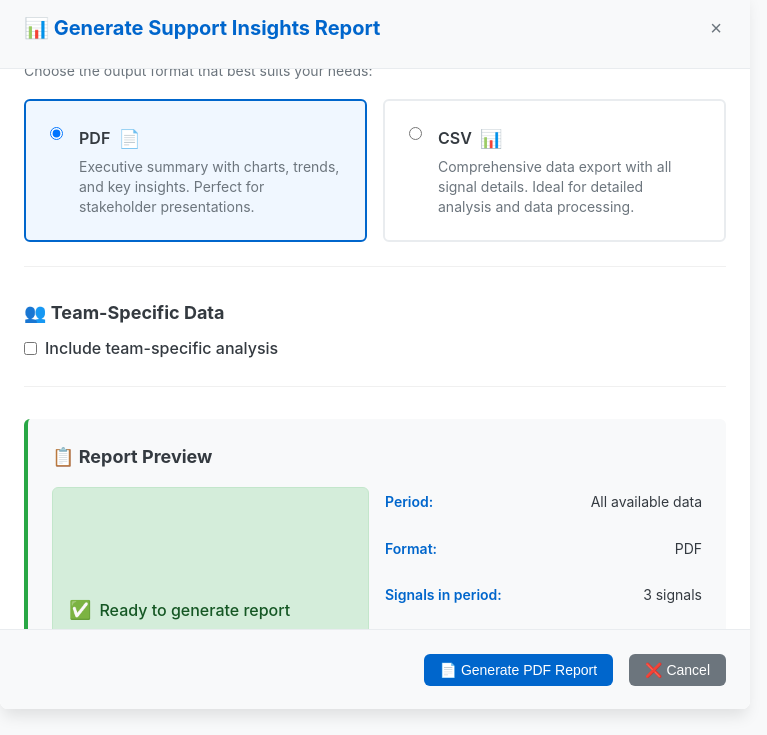
Scenario: ReportGenerationModal › Preview Functionality › shows team information in preview when team is selected
(page scrolled)
# Enable team data
Click the checkbox labelled "Include team-specific analysis" at (30, 349), box [24, 342, 37, 355]
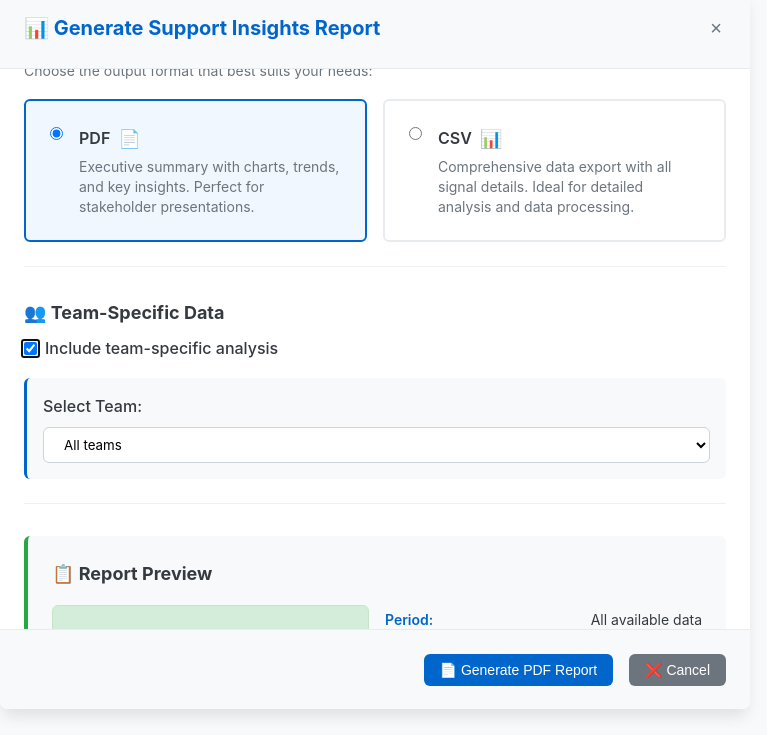
# Select a team using the label
Select "Team Bolt" in the dropdown labelled "Select Team:" at (376, 445), box [43, 427, 710, 463]
(page scrolled)
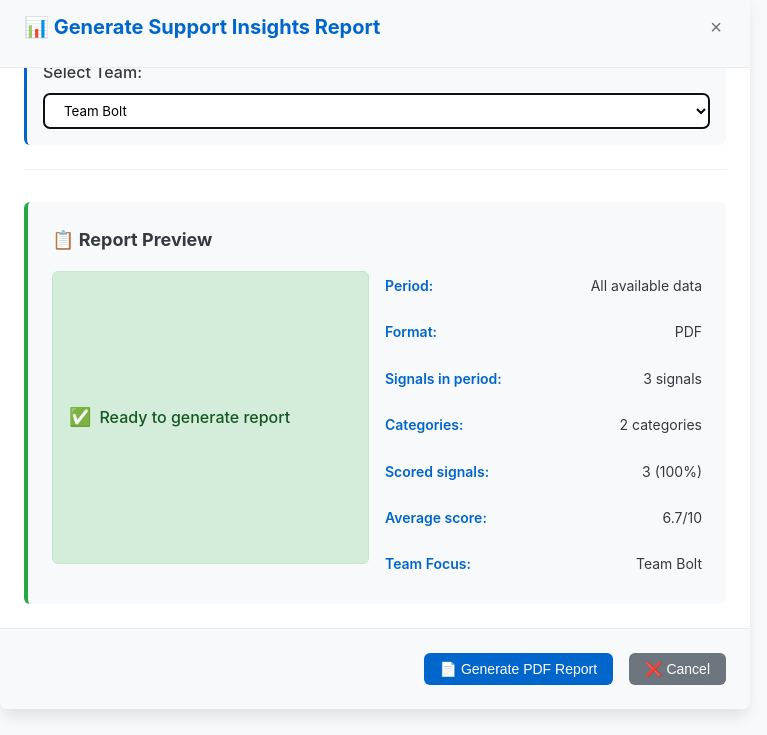
Check: the text "Team Focus:" is shown, box [385, 553, 471, 576]
